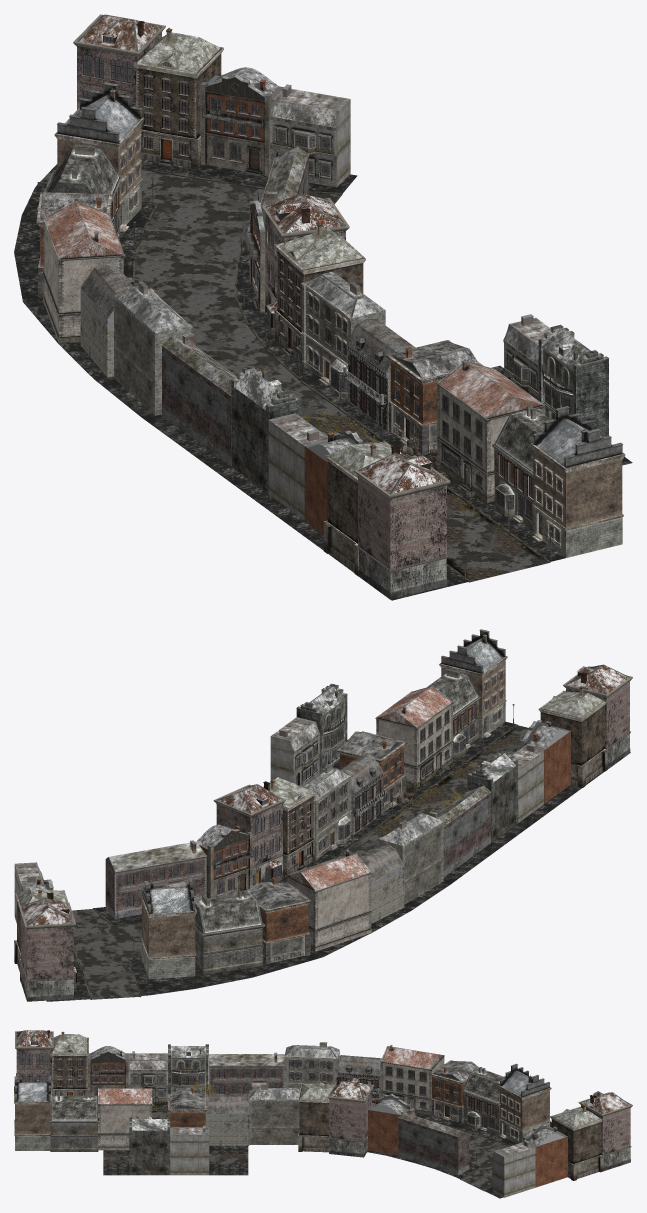
The model's file is rain.glb.
3 views of the same model, one above another, from view 1: azimuth 30°, elevation 25°; view 2: azimuth 150°, elevation 25°; view 3: azimuth 270°, elevation 25° (orthographic). The views are drawn at different scales.
Parts seen in each view (by area): view 1: ground3, ground1, ground2, bat1-structure, bat12-structure.002, bat6-structure-src.001, bat2-structure.002, bat7-structure, bat5-structure, bat5-structure.003, bat3-structure.002, bat9-toiture (+59 smaller); view 2: ground3, ground1, bat1-structure.002, bat9-structure, bat12-structure, bat6-structure-src.002, bat2-structure, bat7-structure, bat11-structure, bat1-structure.003, bat10-structure, bat9-structure.002 (+54 smaller); view 3: bat6-structure-src.002, bat1-structure.003, bat7-structure.002, ground3, ground1, bat5-structure.003, bat2-structure.002, bat1-structure.002, bat12-structure, bat12-structure.002, bat9-structure.002, bat2-structure.003 (+67 smaller).
Part boxes in pixels (x1=…): ground3: x1=14, y1=159, x2=357, y2=301; ground1: x1=178, y1=365, x2=632, y2=600; ground2: x1=23, y1=294, x2=348, y2=443; bat1-structure: x1=354, y1=455, x2=450, y2=599; bat12-structure.002: x1=532, y1=449, x2=622, y2=557; bat6-structure-src.001: x1=162, y1=345, x2=236, y2=466; bat2-structure.002: x1=137, y1=54, x2=221, y2=169; bat7-structure: x1=114, y1=288, x2=192, y2=415; bat5-structure: x1=231, y1=365, x2=301, y2=493; bat5-structure.003: x1=538, y1=324, x2=609, y2=437; bat3-structure.002: x1=200, y1=75, x2=283, y2=176; bat9-toiture: x1=44, y1=200, x2=123, y2=259; ground3: x1=46, y1=907, x2=322, y2=1001; ground1: x1=332, y1=721, x2=630, y2=864; bat1-structure.002: x1=18, y1=902, x2=76, y2=1001; bat9-structure: x1=287, y1=874, x2=371, y2=951; bat12-structure: x1=141, y1=901, x2=195, y2=979; bat6-structure-src.002: x1=105, y1=856, x2=207, y2=918; bat2-structure: x1=540, y1=705, x2=607, y2=787; bat7-structure: x1=378, y1=814, x2=443, y2=904; bat11-structure: x1=195, y1=928, x2=262, y2=974; bat1-structure.003: x1=213, y1=784, x2=285, y2=885; bat10-structure: x1=259, y1=904, x2=310, y2=964; bat9-structure.002: x1=378, y1=704, x2=452, y2=788; bat6-structure-src.002: x1=398, y1=1118, x2=469, y2=1175; bat1-structure.003: x1=327, y1=1081, x2=374, y2=1157; bat7-structure.002: x1=249, y1=1090, x2=299, y2=1144; ground3: x1=387, y1=1115, x2=551, y2=1198; ground1: x1=103, y1=1092, x2=248, y2=1175; bat5-structure.003: x1=129, y1=1117, x2=170, y2=1175; bat2-structure.002: x1=551, y1=1119, x2=603, y2=1180; bat1-structure.002: x1=578, y1=1092, x2=632, y2=1170; bat12-structure: x1=500, y1=1088, x2=549, y2=1143; bat12-structure.002: x1=15, y1=1104, x2=50, y2=1150; bat9-structure.002: x1=98, y1=1105, x2=151, y2=1150; bat2-structure.003: x1=298, y1=1102, x2=329, y2=1152.
Bounding box in the file's own units: 48.84 × 14.13 × 116.
Materials: 70 (68 with a texture image).
